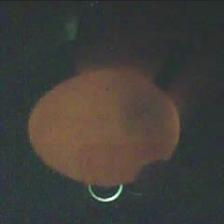fertile: (26, 62, 187, 188)
